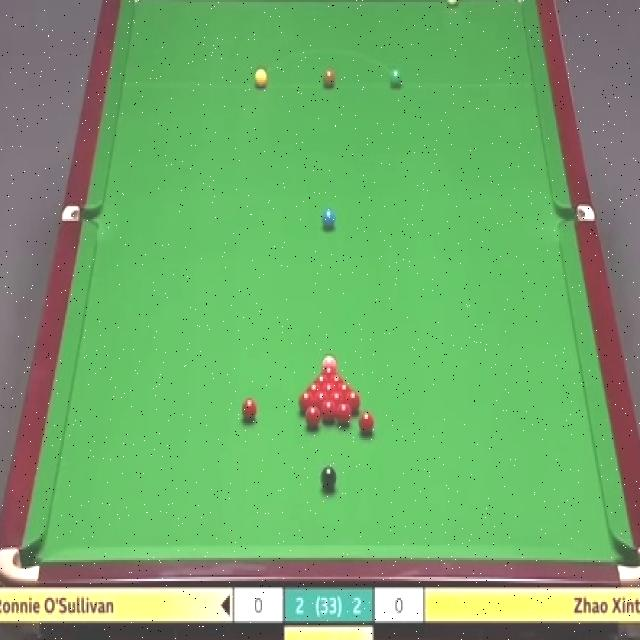black-ball: (319, 464, 336, 490)
blue-ball: (322, 210, 336, 228)
brown-ball: (322, 67, 336, 89)
green-ball: (388, 66, 404, 89)
pink-ball: (322, 356, 337, 370)
red-ball: (302, 404, 322, 428), (343, 390, 359, 412), (360, 411, 374, 436), (242, 398, 256, 422), (298, 391, 313, 413), (322, 399, 336, 422), (337, 404, 351, 426), (330, 392, 344, 413), (308, 382, 320, 395), (322, 367, 333, 380), (324, 383, 334, 396)
white-ball: (444, 0, 457, 6)
yellow-ball: (255, 67, 268, 89)
